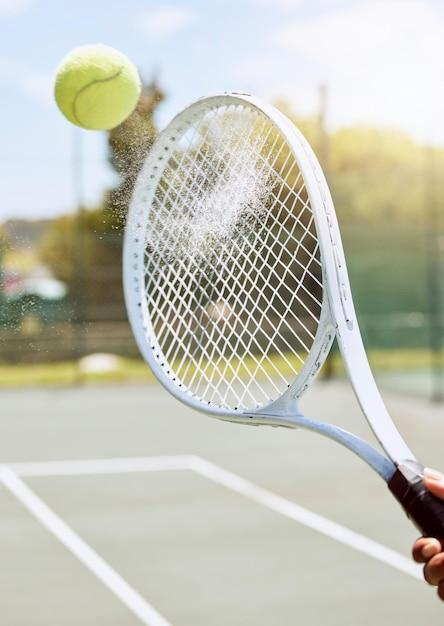ball_tennis: (54, 45, 143, 134)
